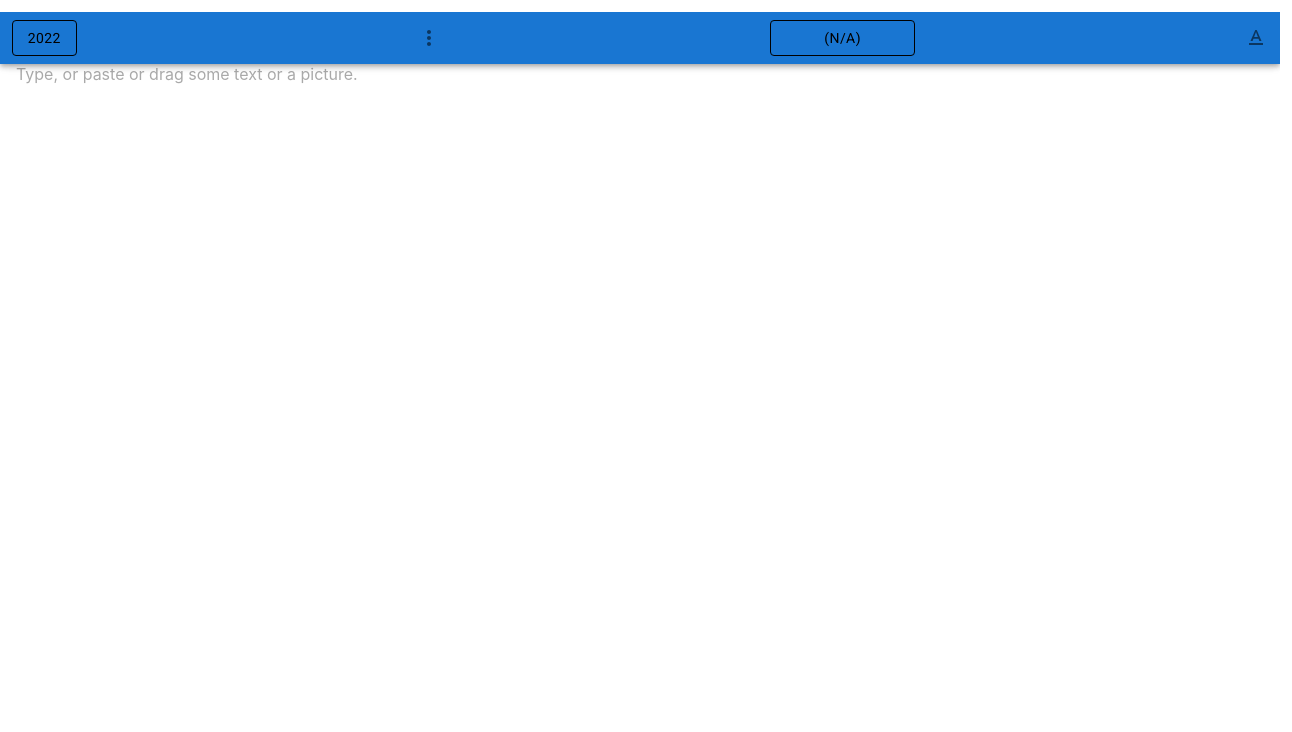
Test: Details component › shows 'no selection' menu when no selection
Check: the field is shown, box [0, 64, 1280, 116]
Click the button "(n/a)".
click(843, 38)  # box [770, 20, 915, 56]
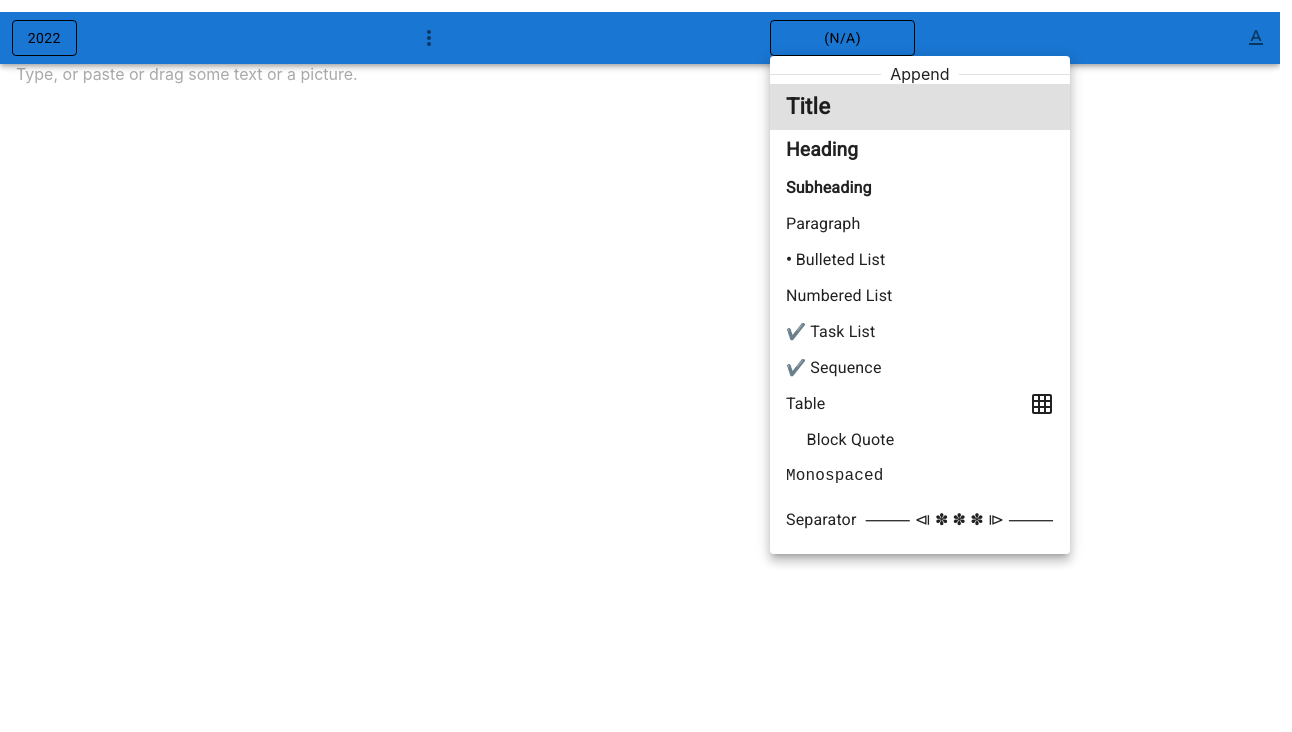
Check: the menu item "Title" is shown, box [770, 84, 1070, 130]
Check: the menu item "Heading" is shown, box [786, 138, 858, 161]
Check: the menu item "Subheading" is shown, box [786, 178, 872, 197]
